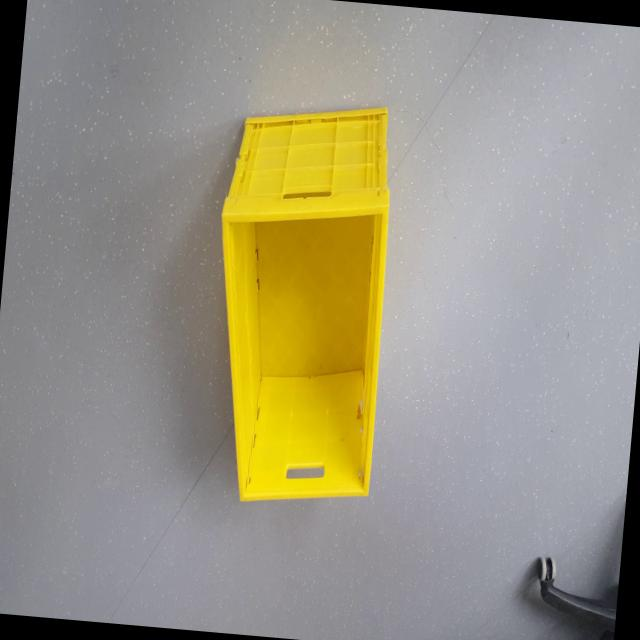box: (184, 59, 415, 534)
